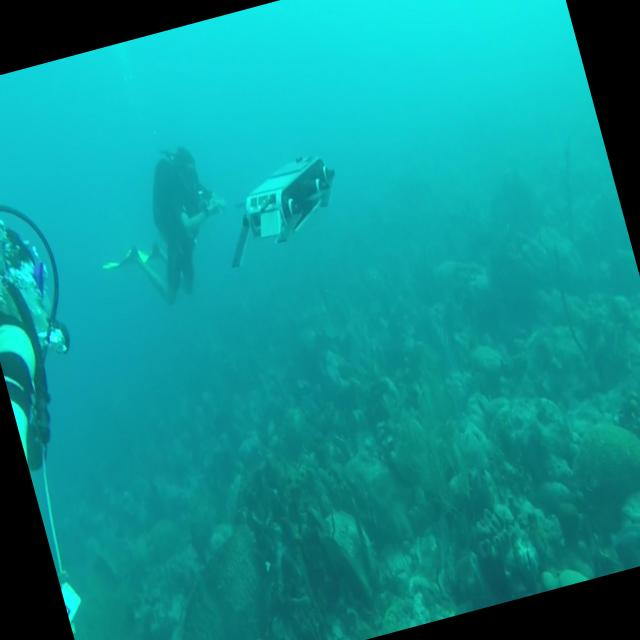human: (0, 185, 169, 640), (76, 135, 248, 319)
